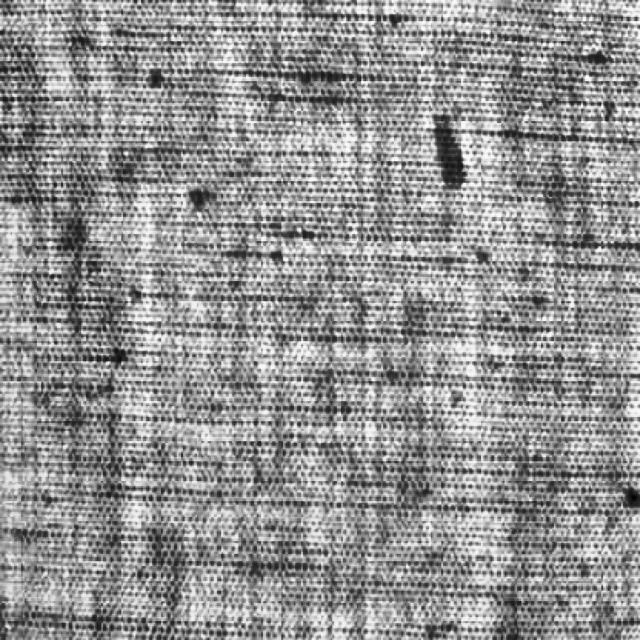oil_spot: (418, 99, 477, 202)
